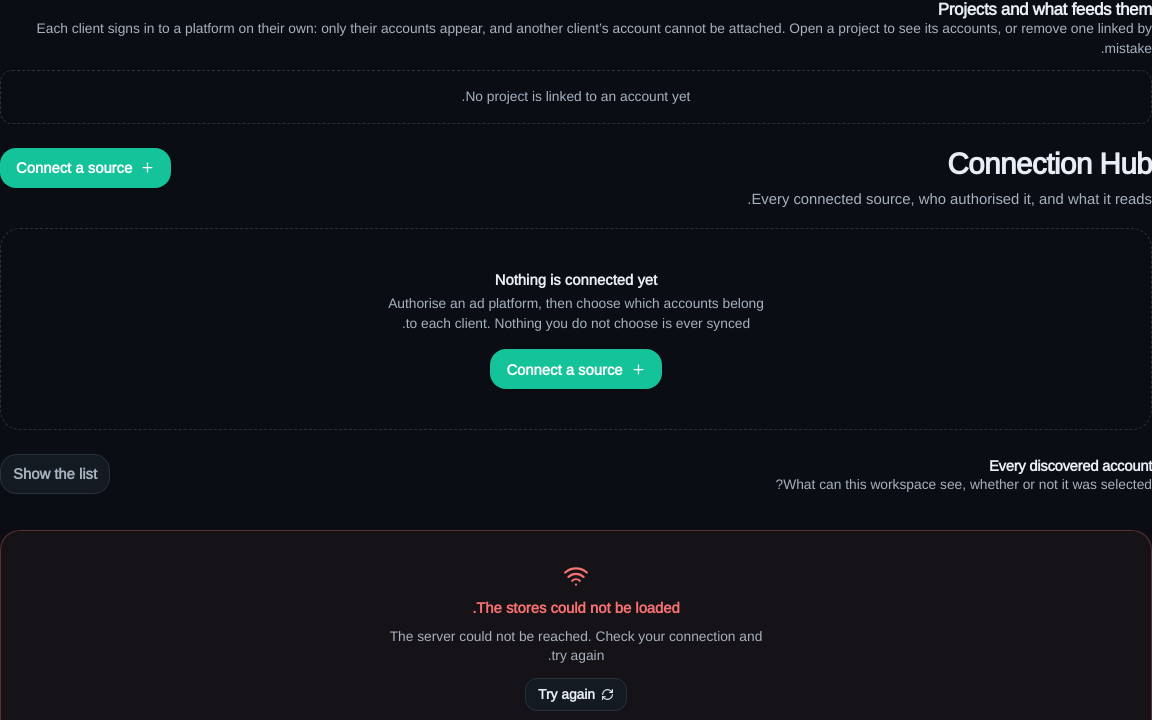
Scenario: the connection flow › offers only the platforms this install can actually start
This screenshot has width=1152, height=720.
Click the button with test id "hub-connect-empty": (576, 370) top-left (490, 350), bottom-right (662, 390)
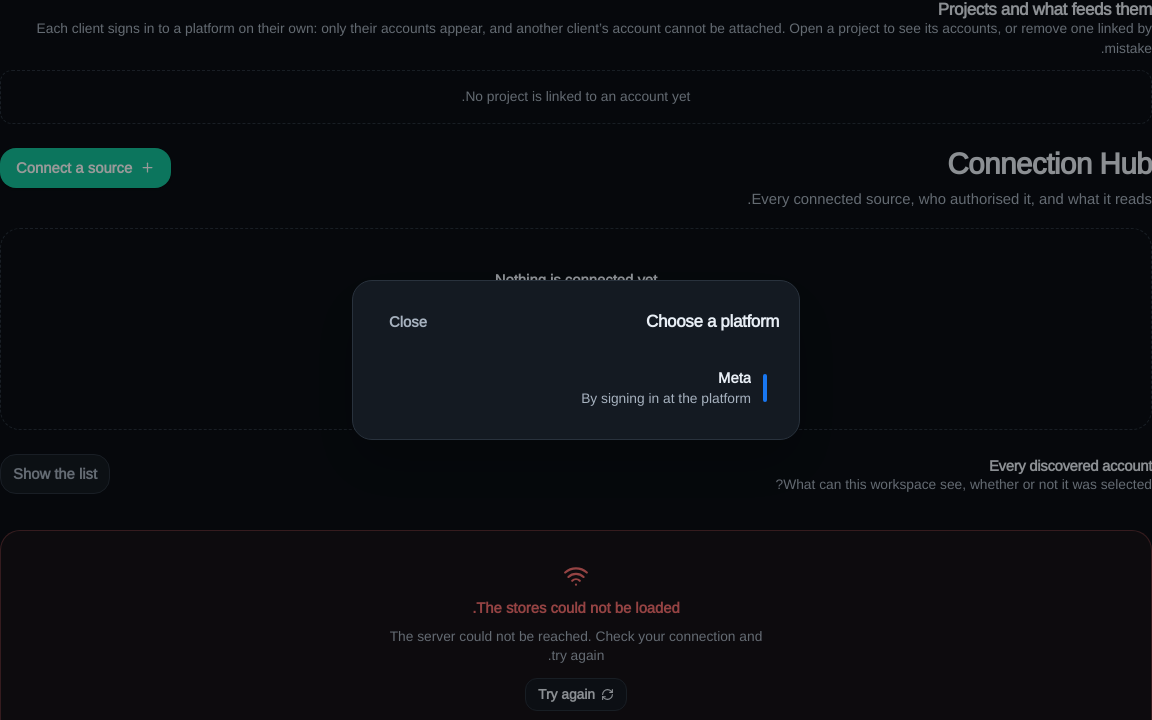
Now the button with test id "provider-pick-meta" is shown, box top-left (373, 357), bottom-right (779, 419)
